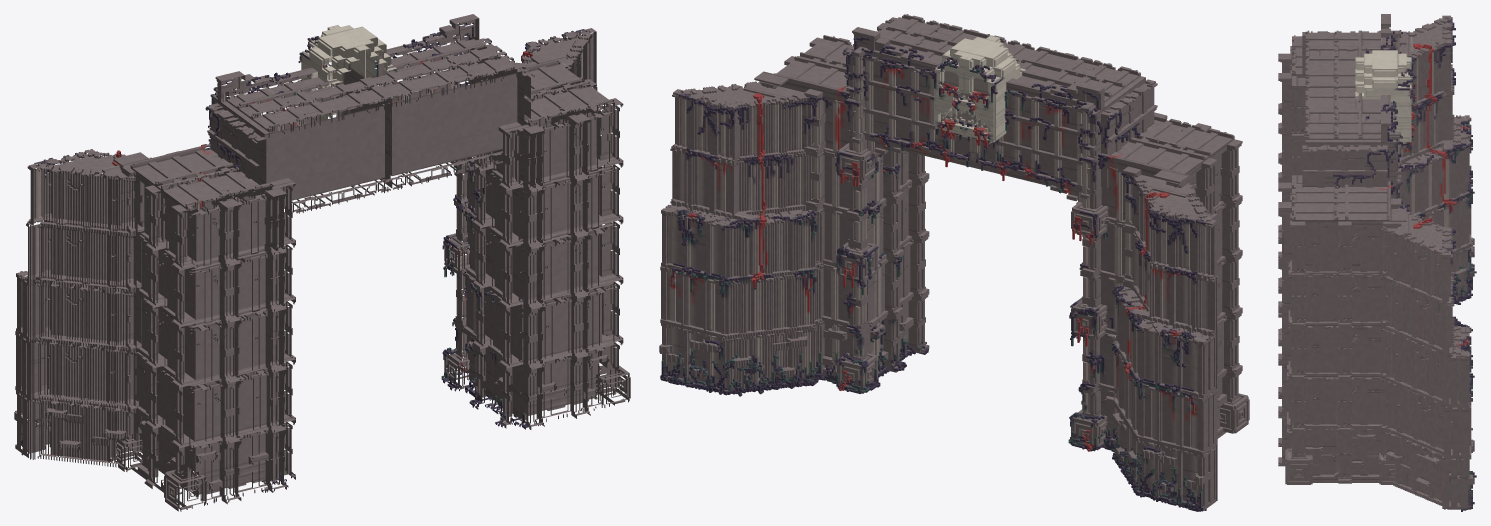
The model's file is Deathgate_state_3.fbx.
3 renders of one model, left to right at view 1: azimuth 30°, elevation 25°; view 2: azimuth 150°, elevation 25°; view 3: azimuth 270°, elevation 25°, orthographic. The views are drawn at different scales.
Parts seen in each view (by area): view 1: deathGate_state_3_part_9, deathGate_state_3, deathGate_state_3_part_10, deathGate_state_3_part_3, deathGate_state_3_part_1, deathGate_state_3_part_4, deathGate_state_3_part_7, deathGate_state_3_part_8, deathGate_state_3_part, deathGate_state_3_part_2, deathGate_state_3_part_5, deathGate_state_3_part_6; view 2: deathGate_state_3_part_10, deathGate_state_3_part_9, deathGate_state_3_part_5, deathGate_state_3, deathGate_state_3_part, deathGate_state_3_part_2, deathGate_state_3_part_8, deathGate_state_3_part_6, deathGate_state_3_part_4, deathGate_state_3_part_1, deathGate_state_3_part_3, deathGate_state_3_part_7; view 3: deathGate_state_3_part_8, deathGate_state_3_part_5, deathGate_state_3_part, deathGate_state_3_part_2, deathGate_state_3, deathGate_state_3_part_6, deathGate_state_3_part_10, deathGate_state_3_part_4, deathGate_state_3_part_9, deathGate_state_3_part_7, deathGate_state_3_part_3, deathGate_state_3_part_1.
Boxes of the visible parts, <box> form: deathGate_state_3_part_9: <box>27,103,280,270</box>; deathGate_state_3: <box>332,14,537,191</box>; deathGate_state_3_part_10: <box>208,26,392,251</box>; deathGate_state_3_part_3: <box>15,319,295,447</box>; deathGate_state_3_part_1: <box>14,385,295,511</box>; deathGate_state_3_part_4: <box>16,270,295,387</box>; deathGate_state_3_part_7: <box>26,213,295,327</box>; deathGate_state_3_part_8: <box>472,28,623,190</box>; deathGate_state_3_part: <box>441,312,630,429</box>; deathGate_state_3_part_2: <box>443,253,623,369</box>; deathGate_state_3_part_5: <box>442,196,623,309</box>; deathGate_state_3_part_6: <box>450,85,623,248</box>; deathGate_state_3_part_10: <box>964,36,1160,221</box>; deathGate_state_3_part_9: <box>1089,79,1242,273</box>; deathGate_state_3_part_5: <box>661,175,929,280</box>; deathGate_state_3: <box>842,14,1020,168</box>; deathGate_state_3_part: <box>659,291,929,396</box>; deathGate_state_3_part_2: <box>660,233,929,337</box>; deathGate_state_3_part_8: <box>672,17,896,161</box>; deathGate_state_3_part_6: <box>670,142,929,216</box>; deathGate_state_3_part_4: <box>1069,252,1242,394</box>; deathGate_state_3_part_1: <box>1068,368,1249,511</box>; deathGate_state_3_part_3: <box>1070,310,1242,453</box>; deathGate_state_3_part_7: <box>1071,197,1242,328</box>; deathGate_state_3_part_8: <box>1278,145,1455,301</box>; deathGate_state_3_part_5: <box>1278,288,1472,404</box>; deathGate_state_3_part: <box>1278,393,1476,511</box>; deathGate_state_3_part_2: <box>1278,341,1474,456</box>; deathGate_state_3: <box>1278,59,1416,234</box>; deathGate_state_3_part_6: <box>1278,238,1455,351</box>; deathGate_state_3_part_10: <box>1278,14,1416,136</box>; deathGate_state_3_part_4: <box>1278,114,1472,231</box>; deathGate_state_3_part_9: <box>1278,15,1455,125</box>; deathGate_state_3_part_7: <box>1278,64,1455,179</box>; deathGate_state_3_part_3: <box>1278,165,1474,281</box>; deathGate_state_3_part_1: <box>1278,237,1476,334</box>.
Bounding box in the file's own units: 334 × 215 × 116.
1 material, 1 textured.
